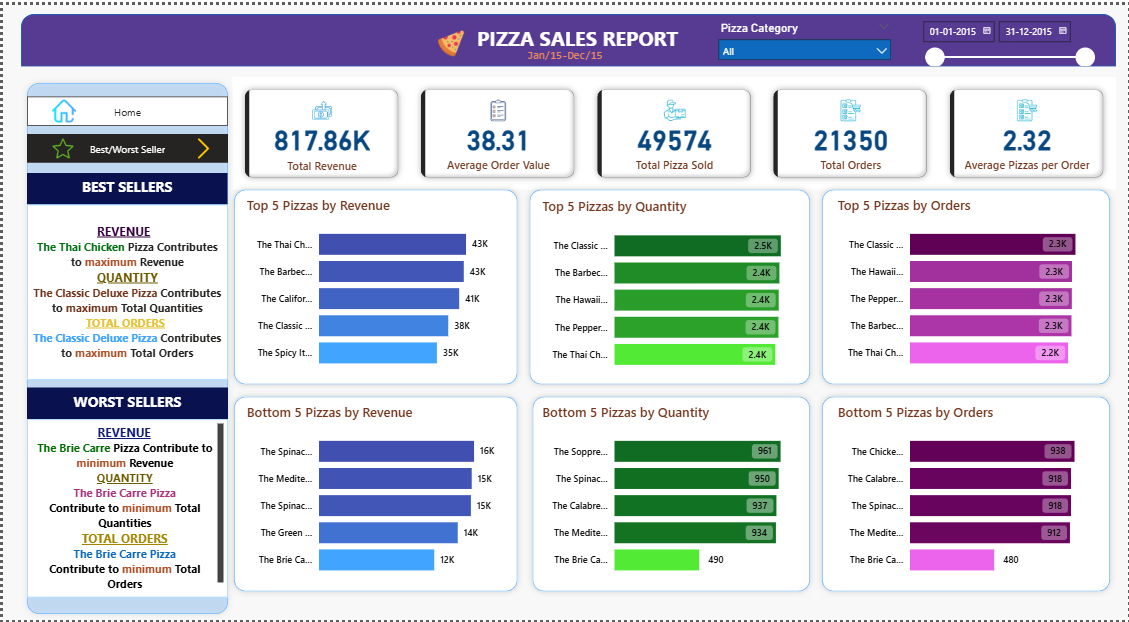

The dashboard page shown, as its layout file describes it:
{"tool":"powerbi","page":{"name":"Best/Worst Seller","canvas":[1500,820],"ordinal":1},"visuals":[{"type":"cardVisual","fields":{"Data":["pizza_sales.Total Revenue","pizza_sales.Average Order Value","pizza_sales.Total Pizza Sold","pizza_sales.Total Orders","pizza_sales.Average Pizzas per Order"]},"box":[306,96,1178,150],"z":0},{"type":"shape","box":[24,12,1460,70],"z":1000},{"type":"textbox","box":[574,20,384,54],"z":2000},{"type":"textbox","box":[672,52,154,44],"z":3000},{"type":"image","box":[574,28,46,46],"z":4000},{"type":"shape","box":[300,238,394,276],"z":5000},{"type":"shape","box":[24,96,284,724],"z":6000},{"type":"textbox","box":[32,224,267,42],"z":7000},{"type":"textbox","box":[32,266,268,234],"z":8000},{"type":"textbox","box":[32,552,268,238],"z":9000},{"type":"textbox","box":[32,510,268,42],"z":10000},{"type":"slicer","fields":{"Values":["pizza_sales.pizza_category"]},"box":[944,16,250,62],"z":11000},{"type":"slicer","fields":{"Values":["pizza_sales.order_date"]},"box":[1214,12,250,70],"z":12000},{"type":"shape","box":[694,238,390,276],"z":13000},{"type":"shape","box":[1084,238,400,276],"z":14000},{"type":"shape","box":[300,514,394,276],"z":15000},{"type":"shape","box":[698,514,386,276],"z":16000},{"type":"shape","box":[1084,514,400,276],"z":17000},{"type":"barChart","title":"Top 5 Pizzas by Revenue","fields":{"Category":["pizza_sales.pizza_name"],"Y":["pizza_sales.Total Revenue"]},"box":[320,254,352,244],"z":18000},{"type":"barChart","title":"Bottom 5 Pizzas by Revenue","fields":{"Category":["pizza_sales.pizza_name"],"Y":["pizza_sales.Total Revenue"]},"box":[320,530,352,244],"z":19000},{"type":"barChart","title":"Top 5 Pizzas by Quantity","fields":{"Category":["pizza_sales.pizza_name"],"Y":["pizza_sales.Total Pizza Sold"]},"box":[714,256,352,244],"z":20000},{"type":"barChart","title":"Bottom 5 Pizzas by Quantity","fields":{"Category":["pizza_sales.pizza_name"],"Y":["pizza_sales.Total Pizza Sold"]},"box":[714,530,352,244],"z":21000},{"type":"barChart","title":"Top 5 Pizzas by Orders","fields":{"Category":["pizza_sales.pizza_name"],"Y":["pizza_sales.Total Orders"]},"box":[1108,254,352,244],"z":22000},{"type":"barChart","title":"Bottom 5 Pizzas by Orders","fields":{"Category":["pizza_sales.pizza_name"],"Y":["pizza_sales.Total Orders"]},"box":[1108,530,352,244],"z":23000},{"type":"pageNavigator","box":[32,122,268,39],"z":23001},{"type":"pageNavigator","box":[32,172,268,38],"z":23002},{"type":"image","box":[234,172,66,38],"z":23003},{"type":"image","box":[56,120,50,42],"z":23004},{"type":"image","box":[54,172,52,38],"z":23005}]}

Visuals, with their boxes in screenshot pixels (x1, y1, x2, y2), scaled from the page's 1500x820 canvas onto the 1129x622 screenshot:
cardVisual - pizza_sales.Total Revenue x pizza_sales.Average Order Value: box(230, 73, 1117, 187)
shape: box(18, 9, 1117, 62)
textbox: box(432, 15, 721, 56)
textbox: box(506, 39, 622, 73)
image: box(432, 21, 467, 56)
shape: box(226, 181, 522, 390)
shape: box(18, 73, 232, 621)
textbox: box(24, 170, 225, 202)
textbox: box(24, 202, 226, 379)
textbox: box(24, 419, 226, 599)
textbox: box(24, 387, 226, 419)
slicer - pizza_sales.pizza_category: box(711, 12, 899, 59)
slicer - pizza_sales.order_date: box(914, 9, 1102, 62)
shape: box(522, 181, 816, 390)
shape: box(816, 181, 1117, 390)
shape: box(226, 390, 522, 599)
shape: box(525, 390, 816, 599)
shape: box(816, 390, 1117, 599)
"Top 5 Pizzas by Revenue" barChart: box(241, 193, 506, 378)
"Bottom 5 Pizzas by Revenue" barChart: box(241, 402, 506, 587)
"Top 5 Pizzas by Quantity" barChart: box(537, 194, 802, 379)
"Bottom 5 Pizzas by Quantity" barChart: box(537, 402, 802, 587)
"Top 5 Pizzas by Orders" barChart: box(834, 193, 1099, 378)
"Bottom 5 Pizzas by Orders" barChart: box(834, 402, 1099, 587)
pageNavigator: box(24, 93, 226, 122)
pageNavigator: box(24, 130, 226, 159)
image: box(176, 130, 226, 159)
image: box(42, 91, 80, 123)
image: box(41, 130, 80, 159)
